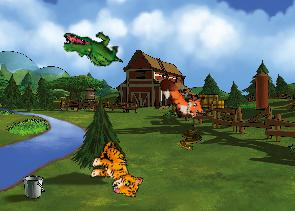crocodile: (62, 29, 123, 68)
fox: (156, 66, 212, 128)
tiger: (84, 138, 151, 201)
